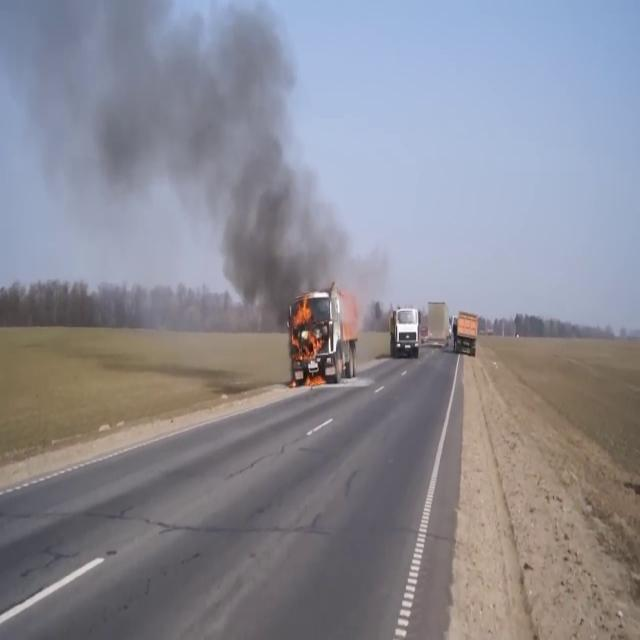Fire: (288, 293, 322, 377)
Smoke: (6, 0, 368, 320)
